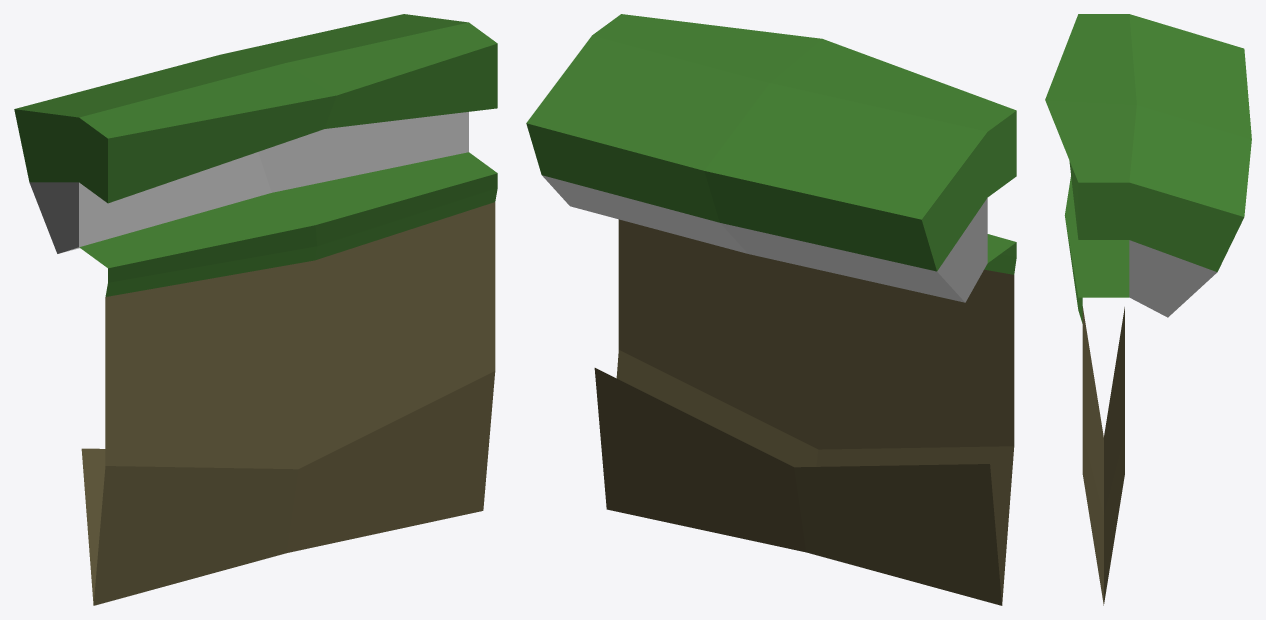
The model's file is GroundHole.fbx.
3 renders of one model, left to right at view 1: azimuth 30°, elevation 25°; view 2: azimuth 150°, elevation 25°; view 3: azimuth 270°, elevation 25°, orthographic. The views are drawn at different scales.
Parts seen in each view (by area): view 1: GroundHole; view 2: GroundHole; view 3: GroundHole.
Boxes of the visible parts, box(x1,y1,x2,y2) form: GroundHole: box(14, 14, 497, 605); GroundHole: box(526, 14, 1016, 605); GroundHole: box(1045, 14, 1251, 605).
Size of the model in its own units: 9.43 by 11.18 by 4.89.
